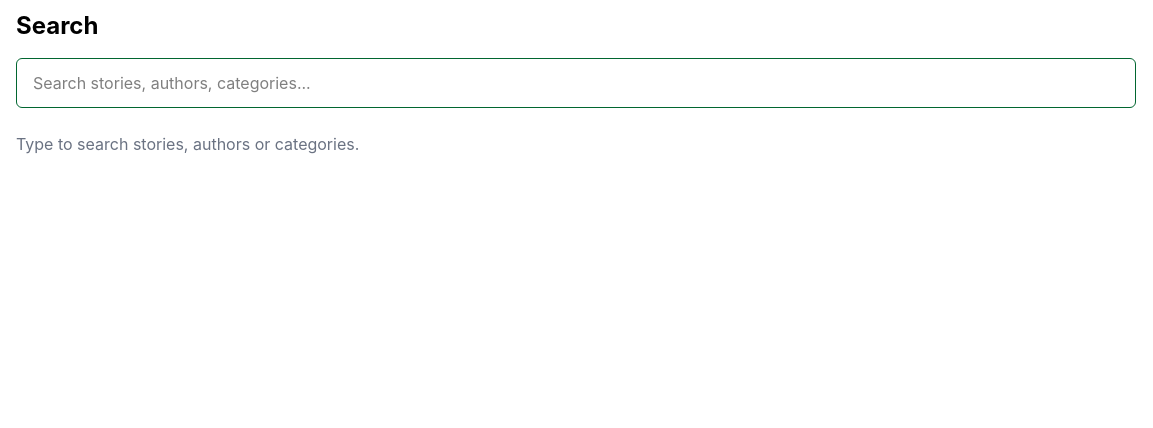
Test: SearchPage › shows matching stories after the user types
This screenshot has width=1153, height=428.
Type "senate" into the search field labelled "Search stories, authors, categories...".
click(576, 83); type("senate")  # box left=16, top=58, right=1136, bottom=108
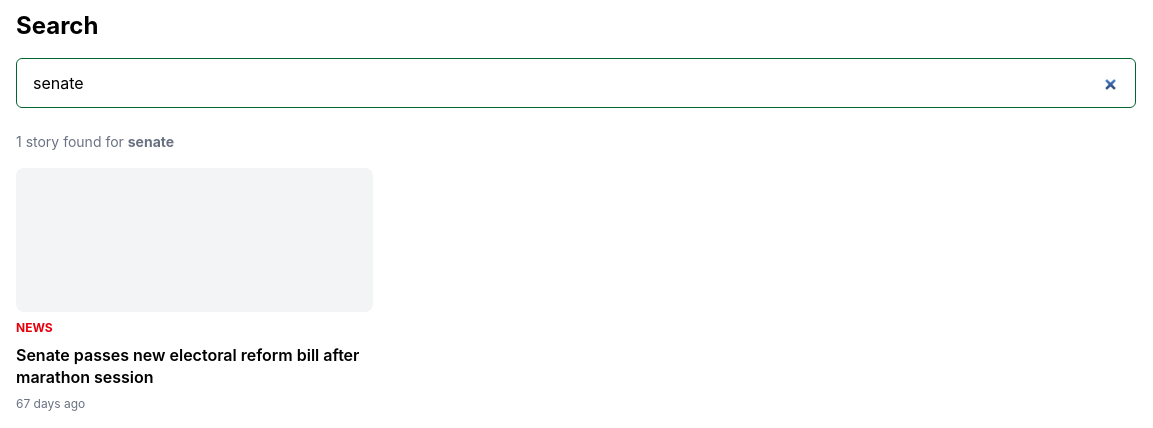
expect the link "Senate passes new electoral reform bill" is shown: met, box left=16, top=345, right=359, bottom=387
